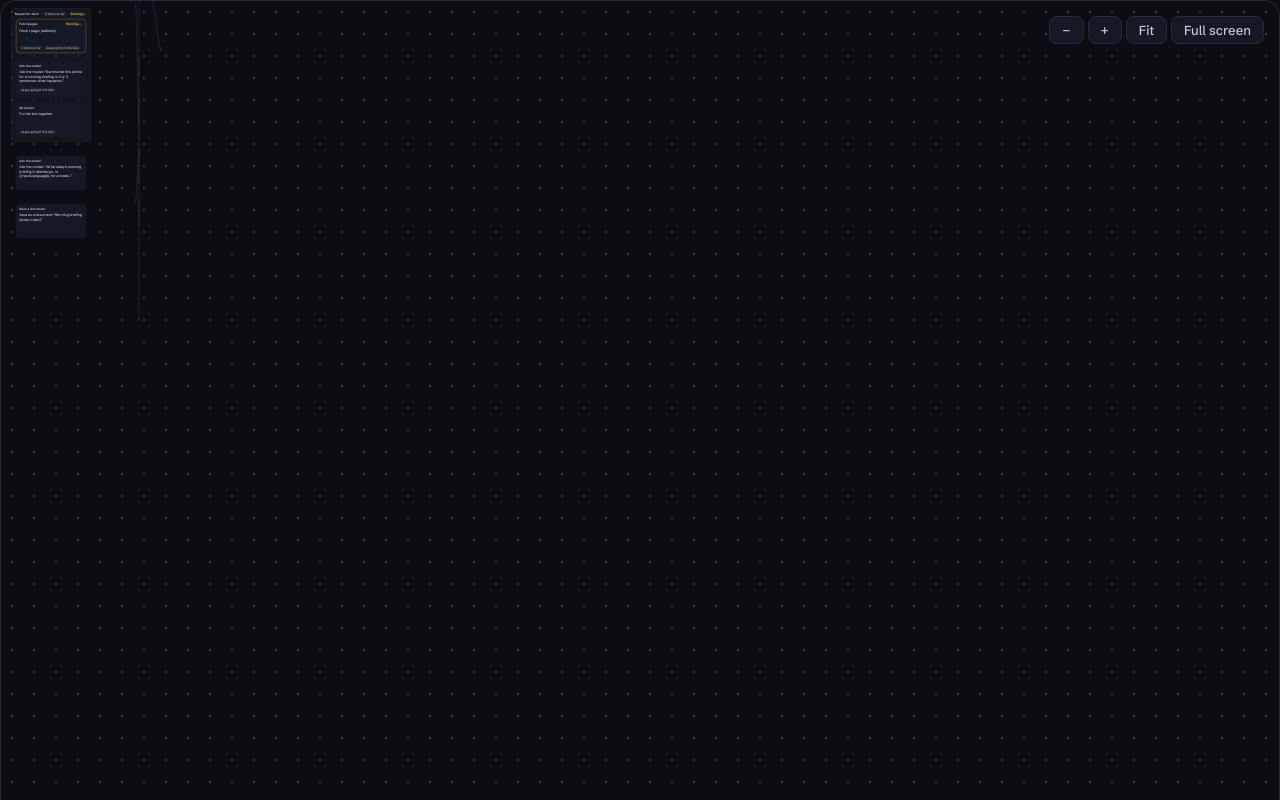
it: WorkflowCanvas › marks each step with its status in a run, and counts loop items
The image size is (1280, 800).
Expected: the text "Running…" next to "Fetch pages" is shown, [66,22,81,26]
Expected: the text "2 items so far" below "Fetch 1 page: [address]" is shown, [21,46,41,50]
Click the element named "Fetch pages: Fetch 1 page: [address]". click: (51, 36)
box: [16,19,86,53]
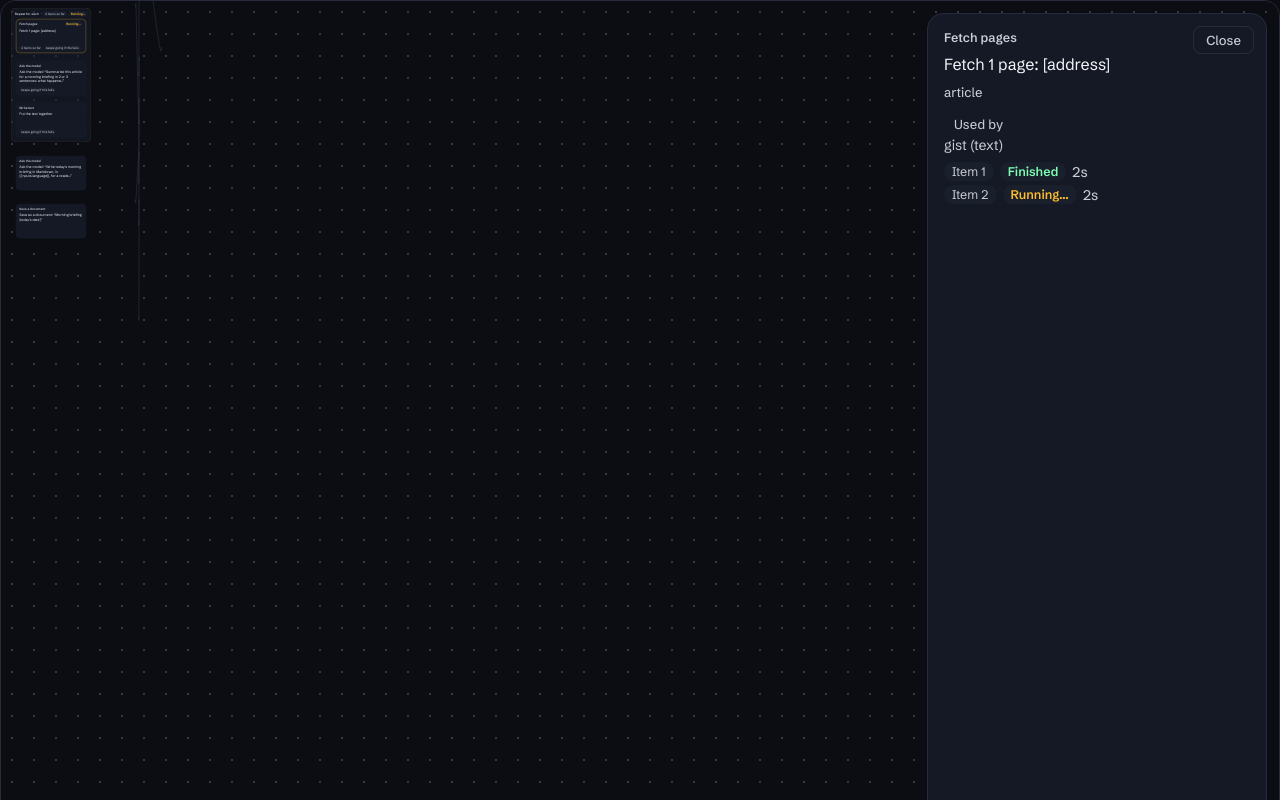
Result: the text "Item 1" is shown at [944,162,994,181]
Result: the text "Item 2" is shown at [944,185,996,204]
